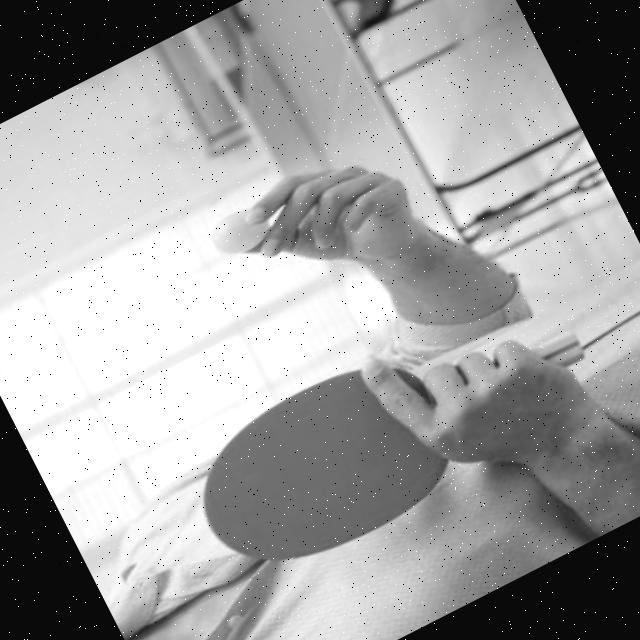ping-pong-ball: (204, 204, 268, 264)
